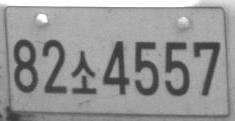2: (41, 38, 67, 94)
4: (101, 39, 129, 95)
5: (163, 41, 190, 97), (134, 41, 159, 95)
7: (192, 41, 221, 96)
8: (12, 38, 39, 94)
소: (70, 50, 97, 94)
